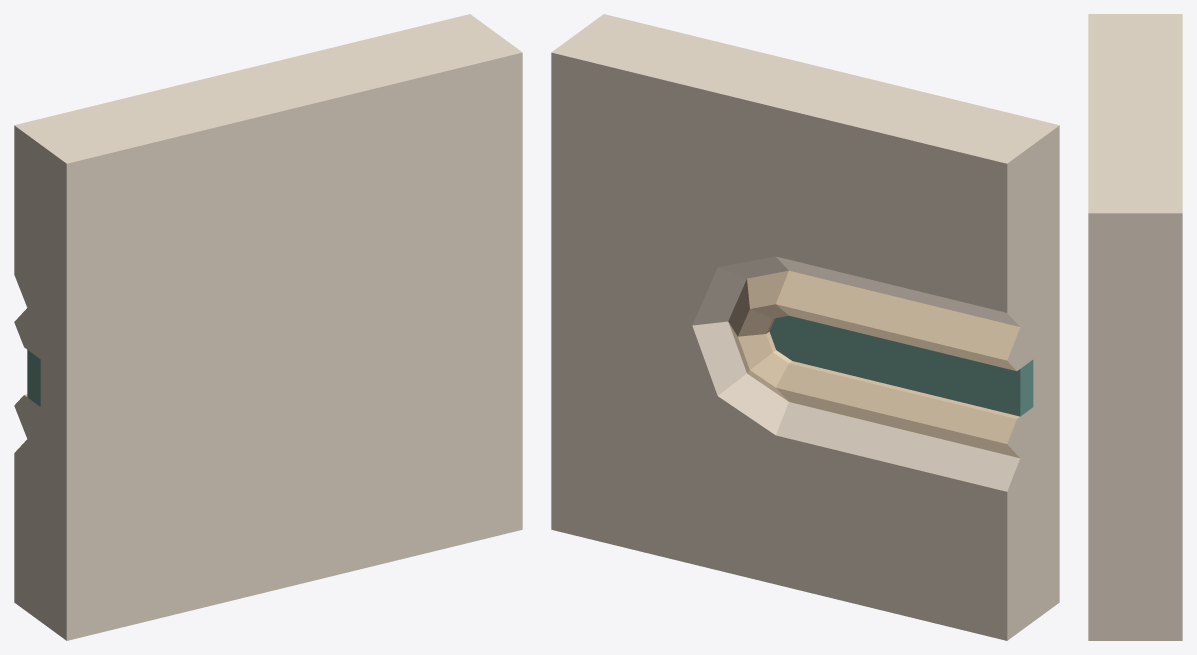
The model's file is Puzzle_Wall_Conduit_Path_End.glb.
The picture shows the model from 3 angles, left to right: view 1: azimuth 30°, elevation 25°; view 2: azimuth 150°, elevation 25°; view 3: azimuth 270°, elevation 25°; orthographic projection. The views are drawn at different scales.
Parts seen in each view (by area): view 1: Puzzle_Wall_Conduit_Path_End; view 2: Puzzle_Wall_Conduit_Path_End; view 3: Puzzle_Wall_Conduit_Path_End.
Part boxes in pixels (left/top/right/bottom): Puzzle_Wall_Conduit_Path_End: left=14, top=14, right=522, bottom=640; Puzzle_Wall_Conduit_Path_End: left=551, top=14, right=1059, bottom=640; Puzzle_Wall_Conduit_Path_End: left=1088, top=14, right=1182, bottom=640.
Size of the model in its own units: 1 by 1 by 0.2.
